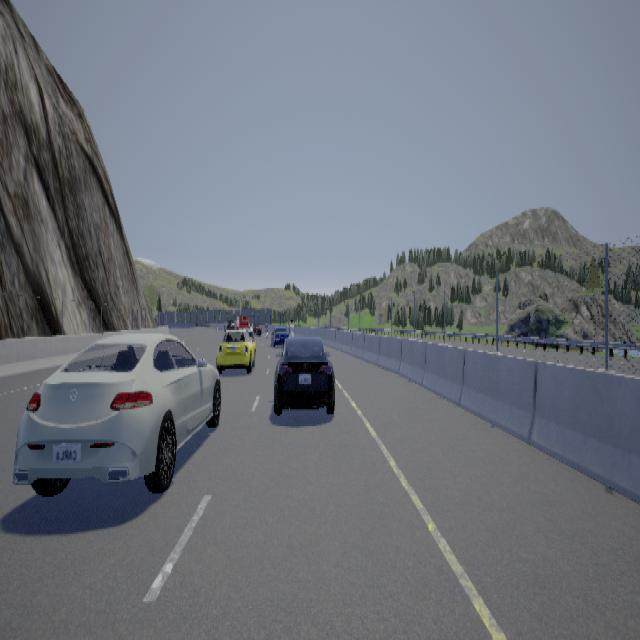vehicle: (13, 315, 225, 488), (272, 325, 336, 414), (217, 324, 257, 376)
